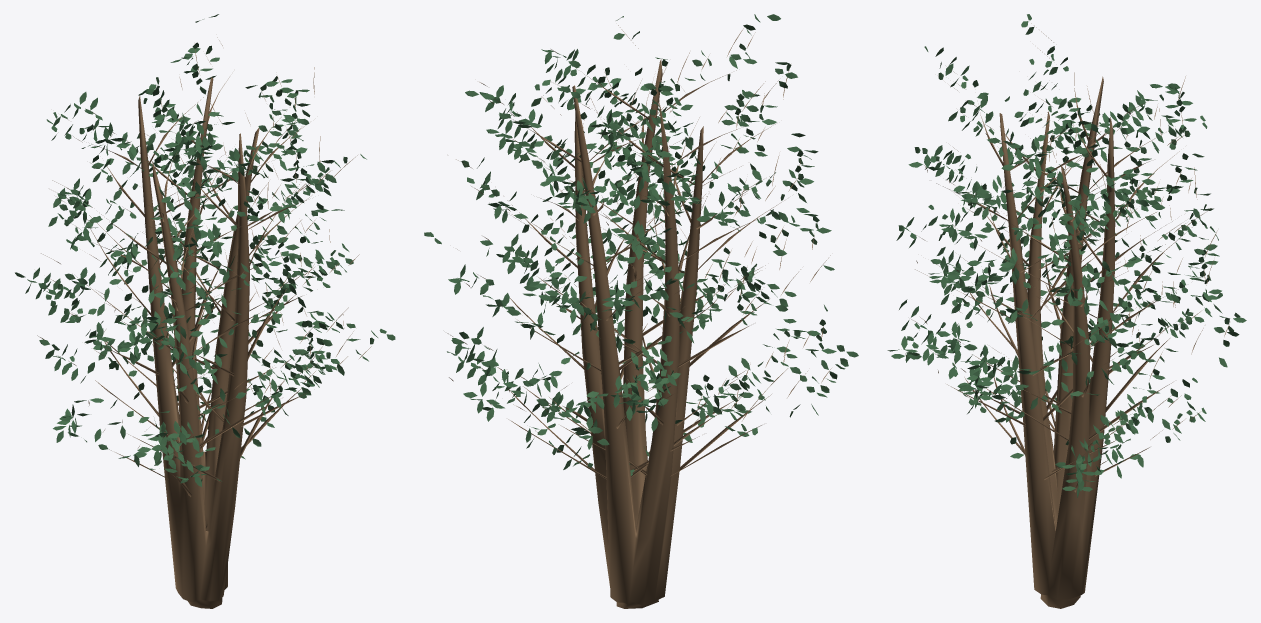
The model's file is Myrte_1_Niveau1.fbx.
3 renders of one model, left to right at view 1: azimuth 30°, elevation 25°; view 2: azimuth 150°, elevation 25°; view 3: azimuth 270°, elevation 25°, orthographic. The views are drawn at different scales.
Parts seen in each view (by area): view 1: Myrte_1_Niveau1; view 2: Myrte_1_Niveau1; view 3: Myrte_1_Niveau1.
Boxes of the visible parts, x1,y1,x2,y2 form: Myrte_1_Niveau1: (15,14,395,608); Myrte_1_Niveau1: (424,14,858,608); Myrte_1_Niveau1: (887,14,1246,608).
Bounding box in the file's own units: 133 × 194 × 120.
